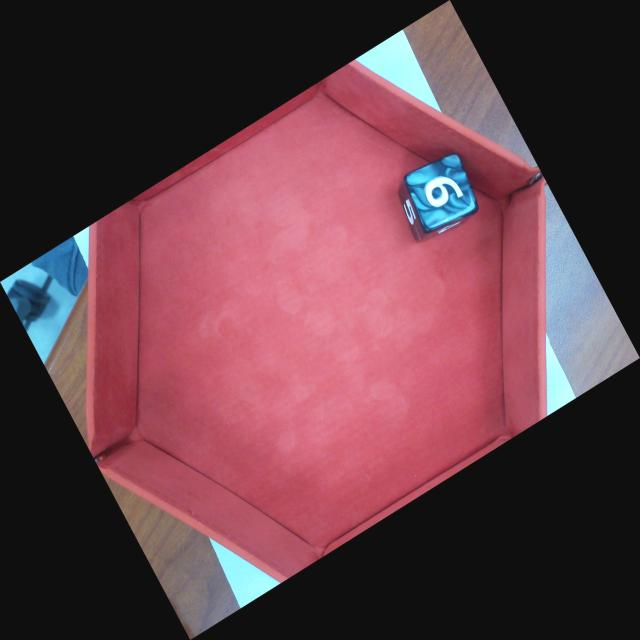dice: (412, 154, 478, 226)
